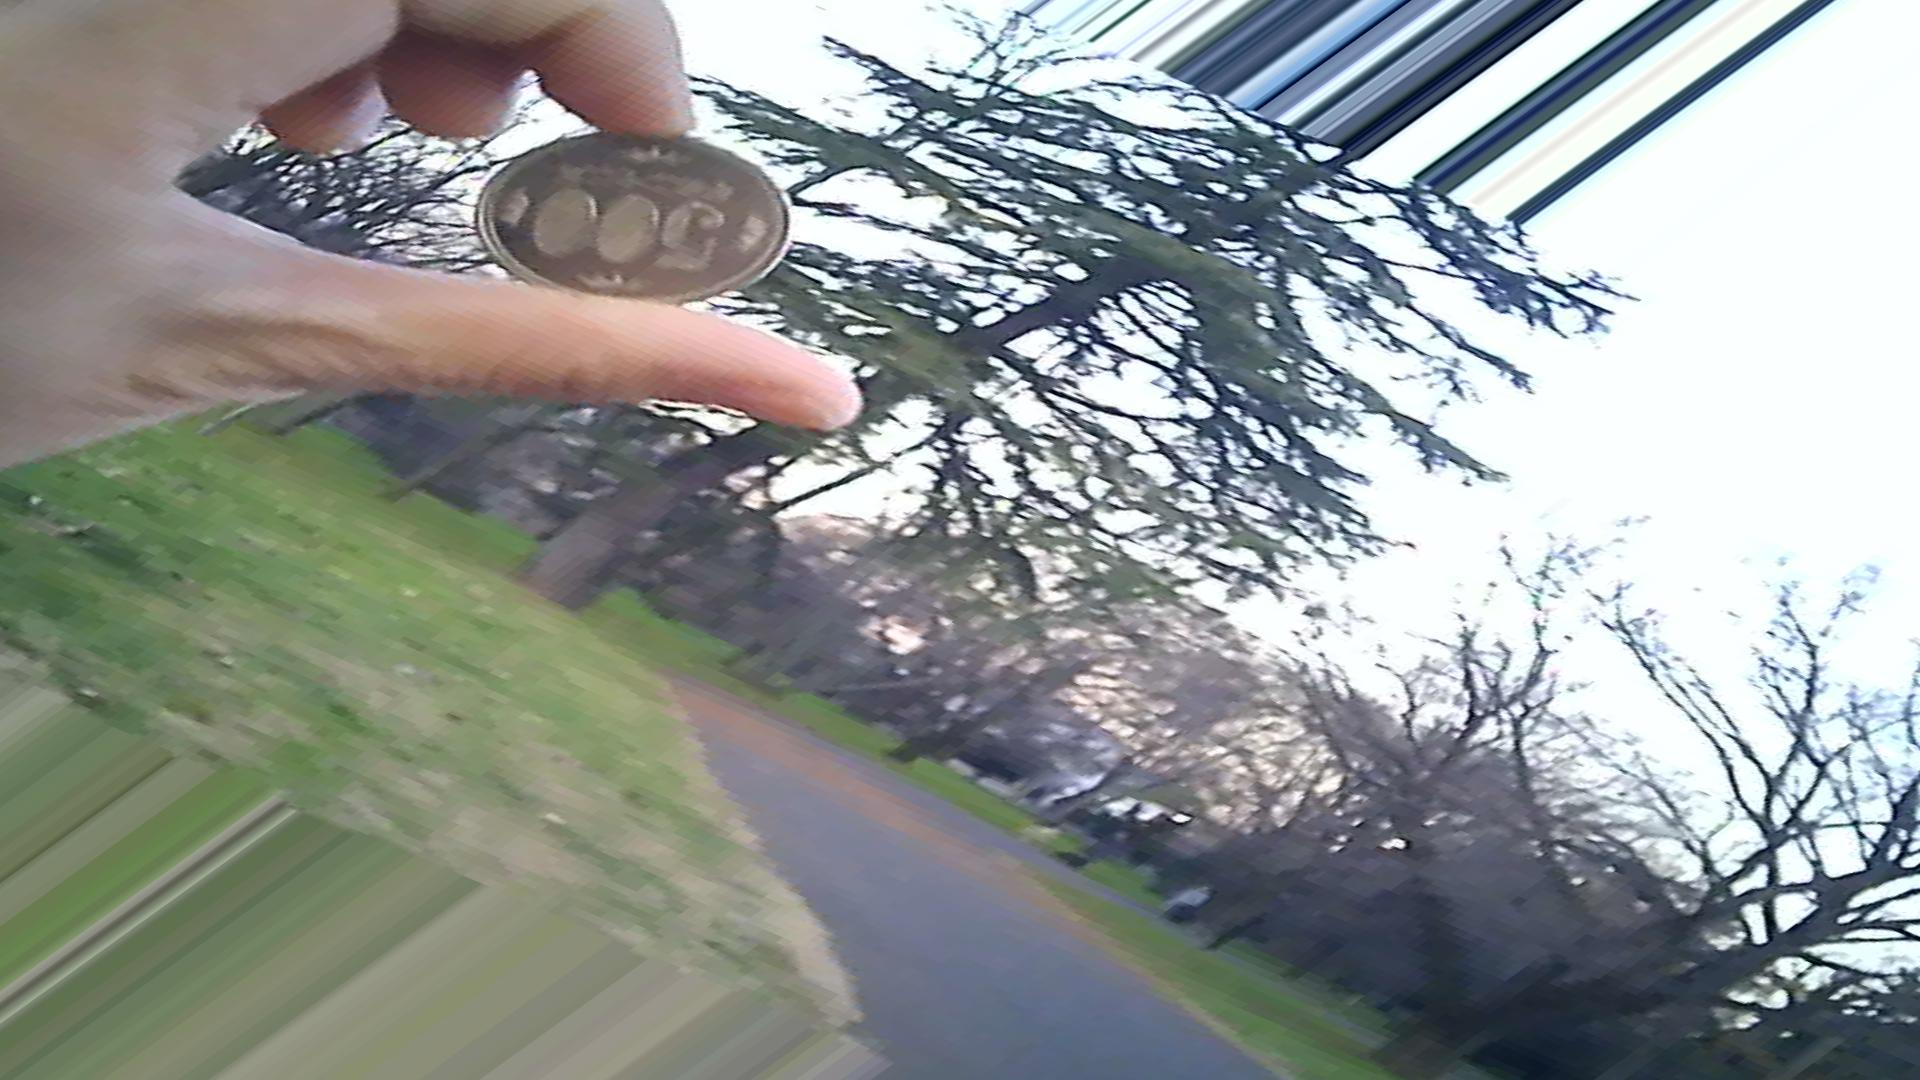500 Yen: (477, 132, 804, 318)
